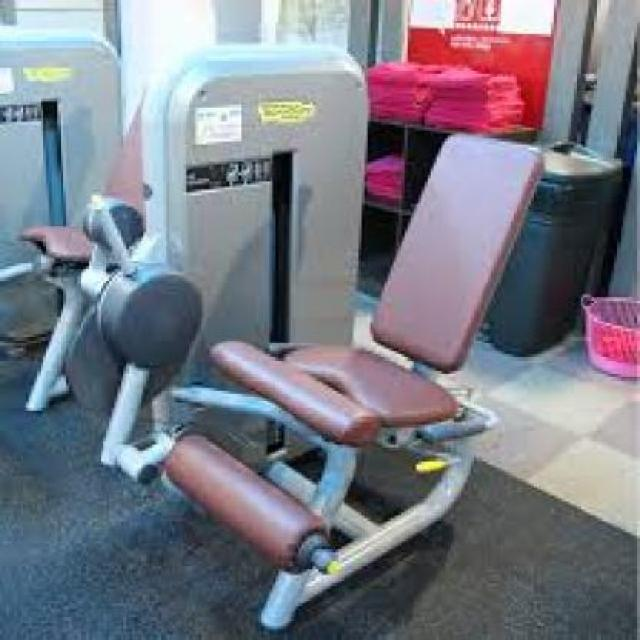leg extension: (46, 24, 557, 640)
